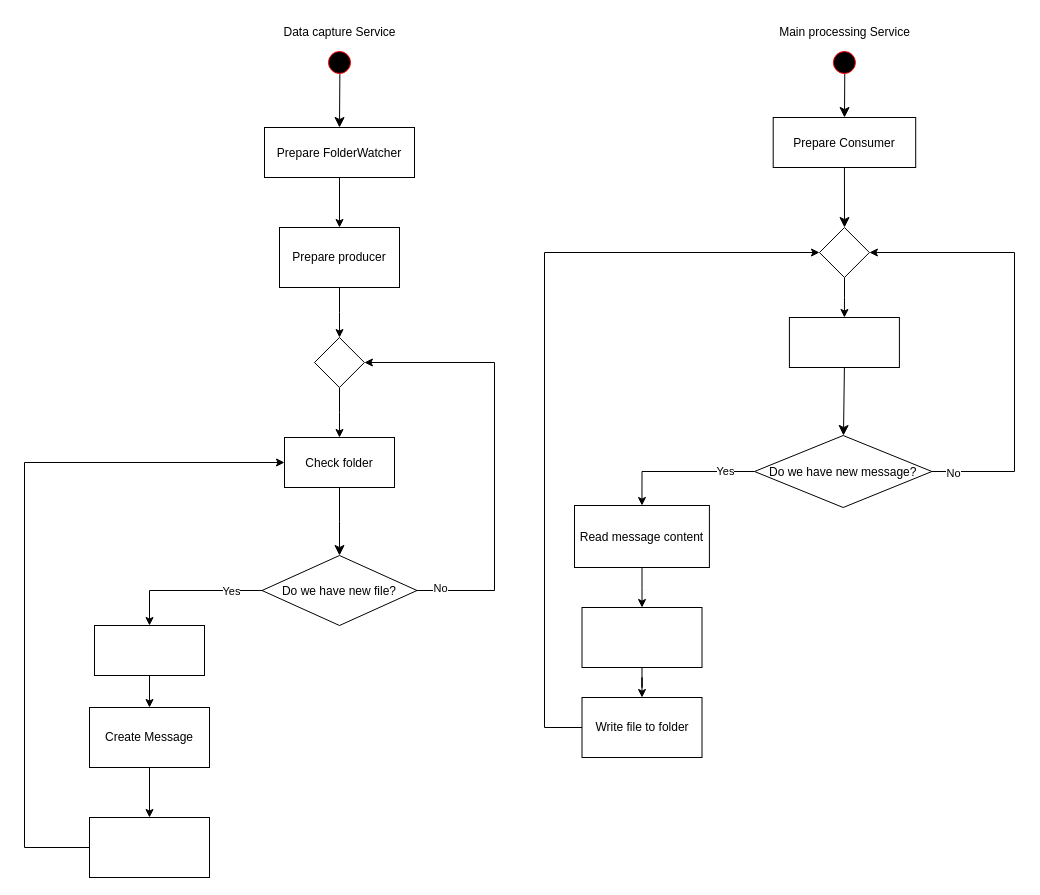
Image size: 1040x895. Some labels were removed from this diagram. Here are the shapes that lost their labels. From the top down, the centre of each, then its label:
At (x=843, y=342): "Listen to Topic".
At (x=149, y=650): "Read file content".
At (x=641, y=637): "Create file".
At (x=149, y=847): "Send message to Kafka".
